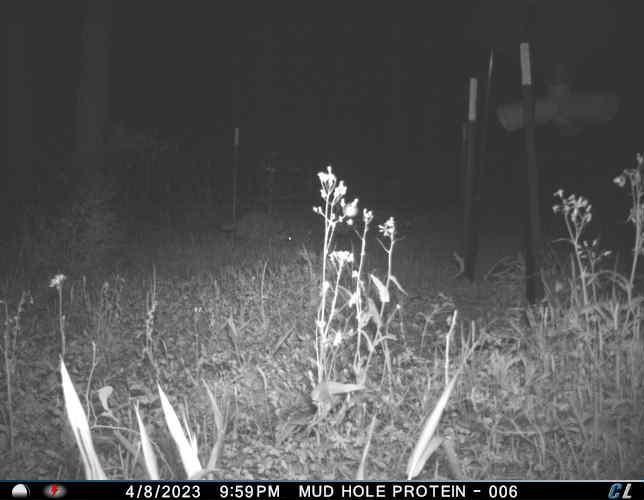Raccoon: (219, 212, 301, 254)
